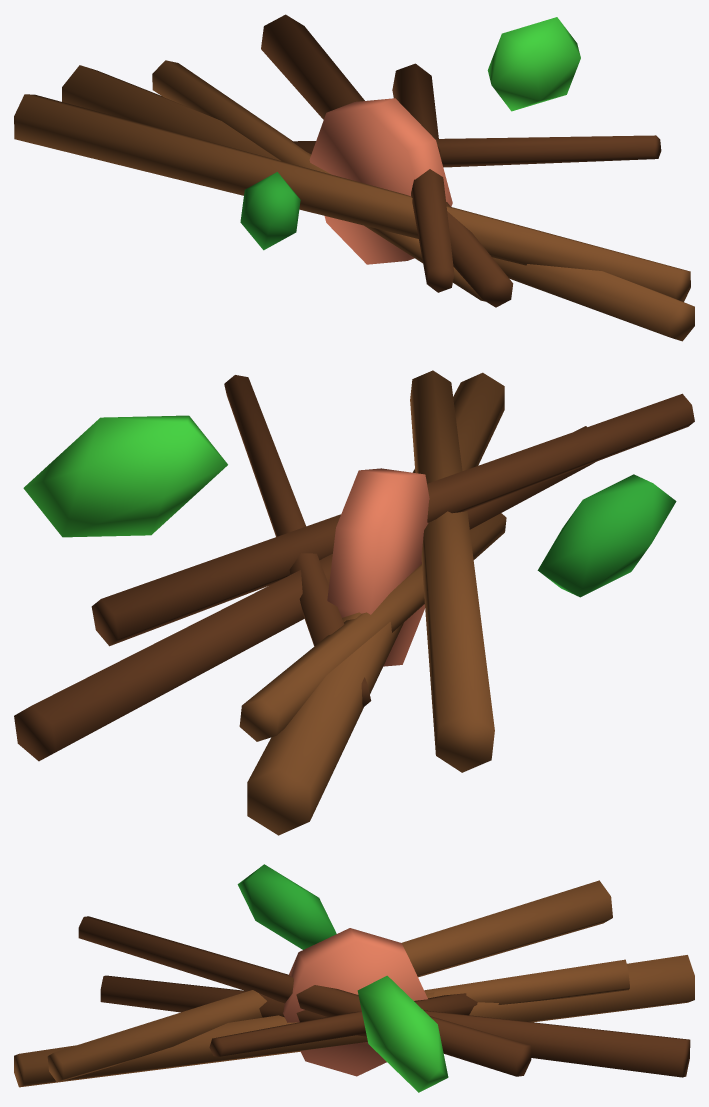
File: branch.glb
3 renders of one model, top to bottom at view 1: azimuth 30°, elevation 25°; view 2: azimuth 150°, elevation 25°; view 3: azimuth 270°, elevation 25°, orthographic. The views are drawn at different scales.
Parts seen in each view (by area): view 1: br_stick2, br_stick0, br_twine, br_stick1, br_leaf1, br_stick5, br_stick4, br_stick3, br_leaf2; view 2: br_stick3, br_stick2, br_stick1, br_leaf1, br_stick0, br_twine, br_leaf2, br_stick4, br_stick5; view 3: br_stick2, br_stick0, br_stick1, br_stick3, br_twine, br_leaf1, br_stick4, br_leaf2, br_stick5.
Part boxes in pixels (x1=…): br_stick2: x1=14, y1=94, x2=690, y2=301; br_stick0: x1=62, y1=65, x2=694, y2=341; br_twine: x1=309, y1=98, x2=452, y2=264; br_stick1: x1=261, y1=14, x2=513, y2=307; br_leaf1: x1=487, y1=17, x2=580, y2=111; br_stick5: x1=292, y1=135, x2=661, y2=167; br_stick4: x1=152, y1=60, x2=485, y2=301; br_stick3: x1=392, y1=63, x2=454, y2=292; br_leaf2: x1=240, y1=172, x2=300, y2=250; br_stick3: x1=91, y1=393, x2=694, y2=646; br_stick2: x1=410, y1=370, x2=494, y2=772; br_stick1: x1=14, y1=426, x2=594, y2=761; br_leaf1: x1=23, y1=415, x2=227, y2=537; br_stick0: x1=247, y1=372, x2=504, y2=835; br_twine: x1=327, y1=468, x2=429, y2=666; br_leaf2: x1=537, y1=474, x2=676, y2=597; br_stick4: x1=239, y1=513, x2=506, y2=741; br_stick5: x1=224, y1=375, x2=371, y2=707; br_stick2: x1=47, y1=880, x2=612, y2=1082; br_stick0: x1=14, y1=955, x2=694, y2=1087; br_stick1: x1=100, y1=975, x2=690, y2=1077; br_stick3: x1=78, y1=916, x2=531, y2=1076; br_twine: x1=283, y1=928, x2=427, y2=1076; br_leaf1: x1=357, y1=975, x2=448, y2=1092; br_stick4: x1=424, y1=959, x2=629, y2=1004; br_leaf2: x1=237, y1=864, x2=336, y2=949; br_stick5: x1=209, y1=993, x2=477, y2=1056.
Size of the model in its own units: 0.5763 by 0.2048 by 0.823.
